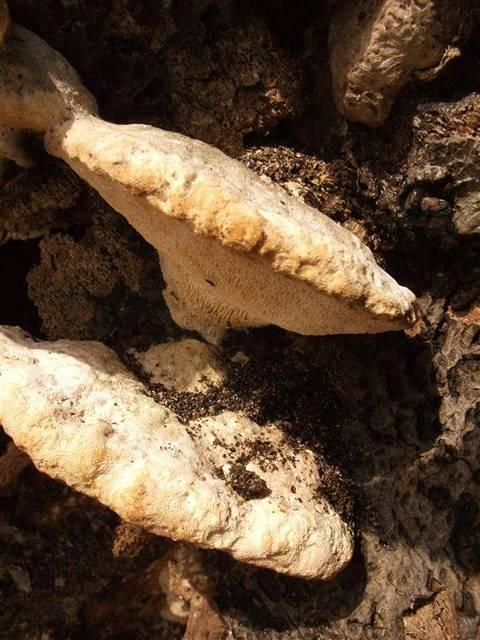poisonous_mushroom: (0, 5, 421, 344), (0, 323, 357, 583)
